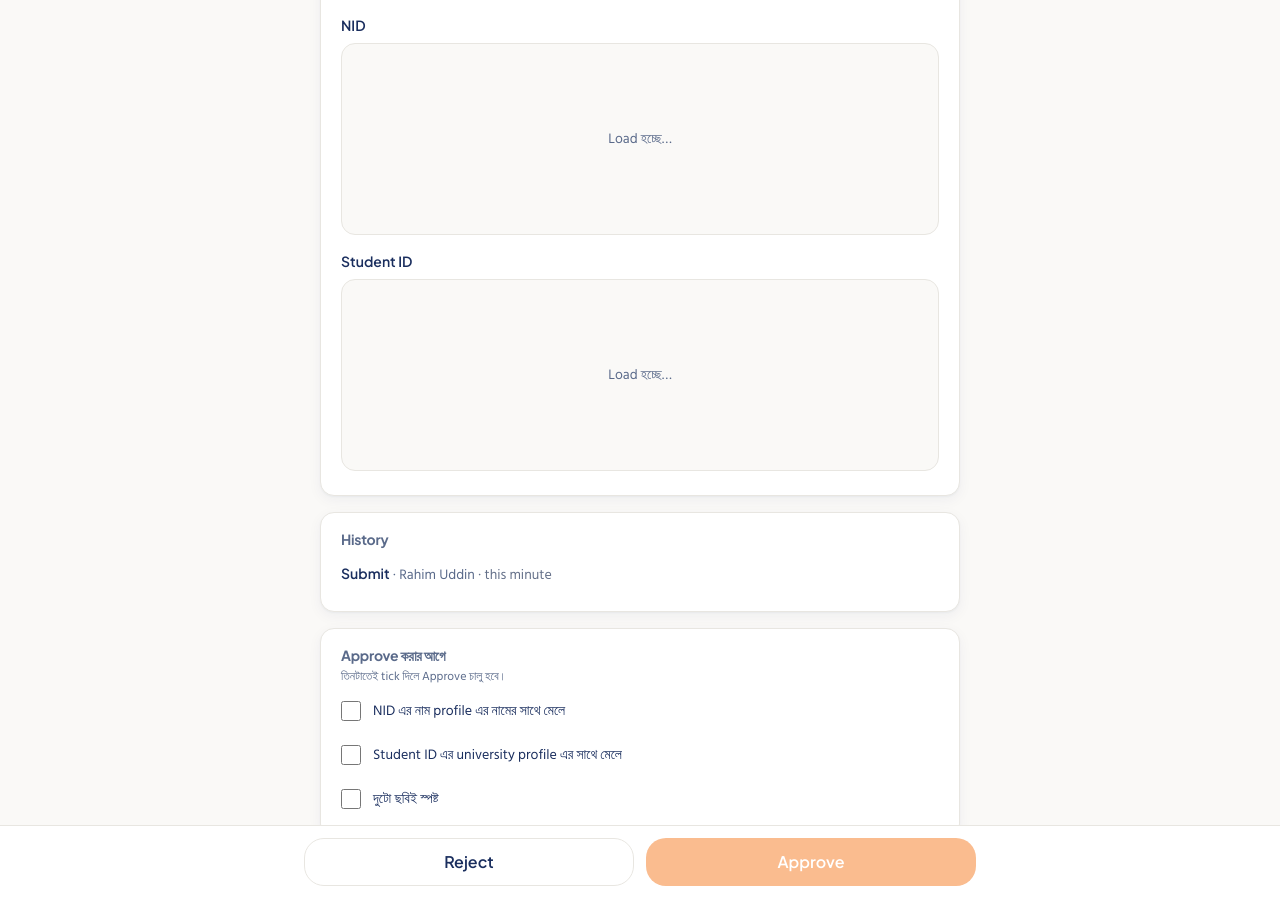
VerificationDetail › approves after confirmation and goes to the next waiting profile
(page scrolled)
Click the checkbox labelled "NID এর নাম profile এর নামের সাথে মেলে". click: (351, 711)
box: [341,701,361,721]
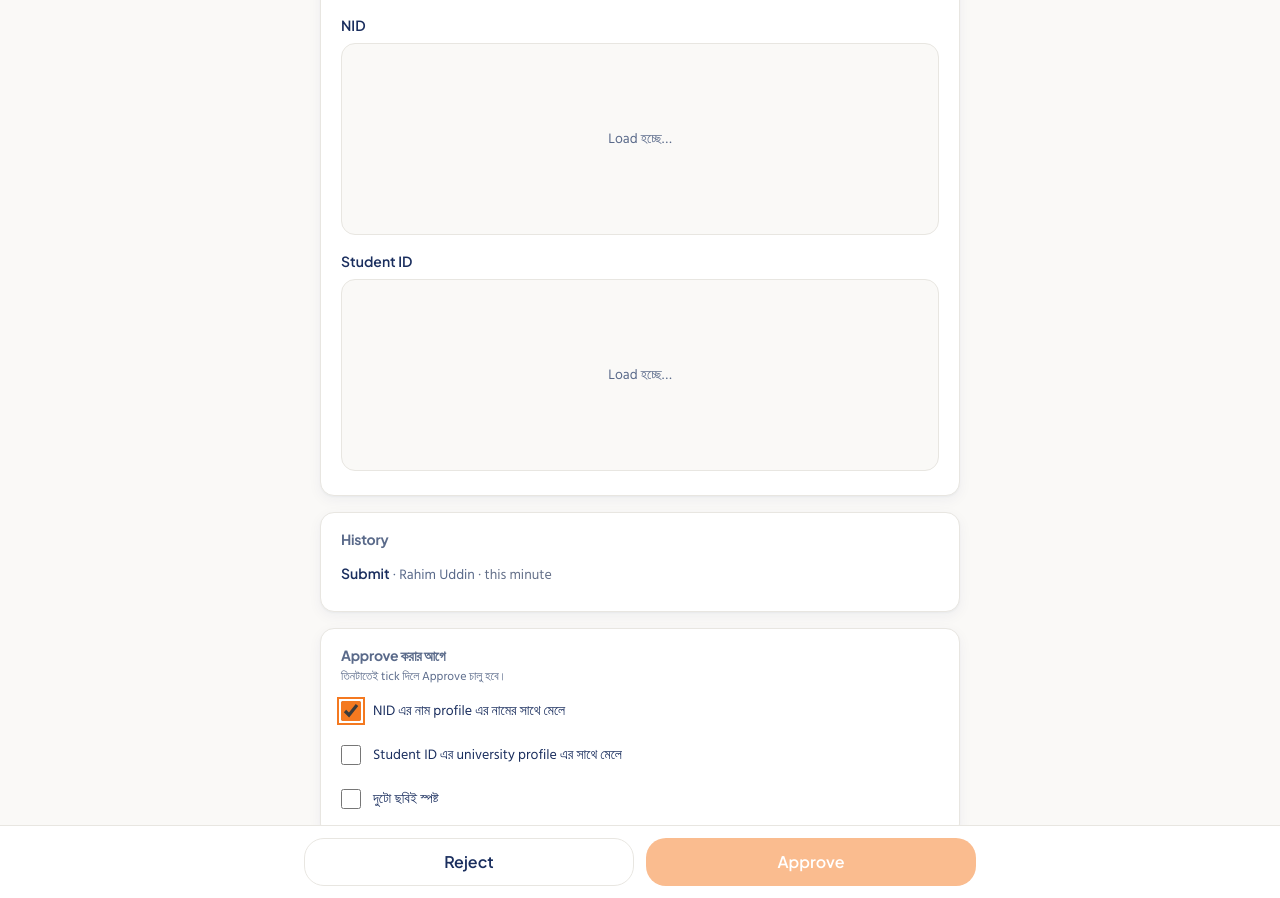
Click the checkbox labelled "Student ID এর university profile এর সাথে মেলে". click: (351, 755)
box: [341,745,361,765]
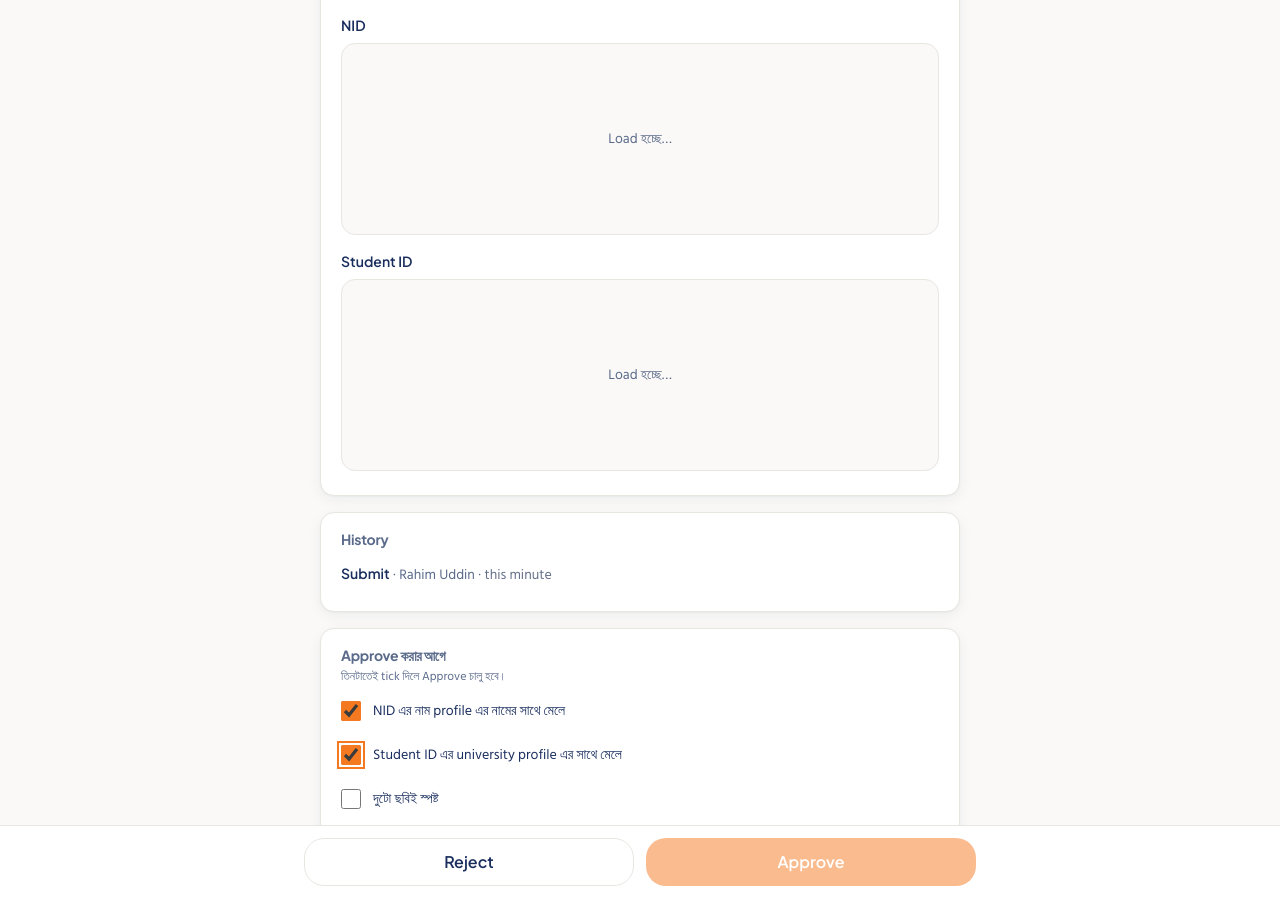
Click the checkbox labelled "দুটো ছবিই স্পষ্ট". click: (351, 799)
box: [341,789,361,809]
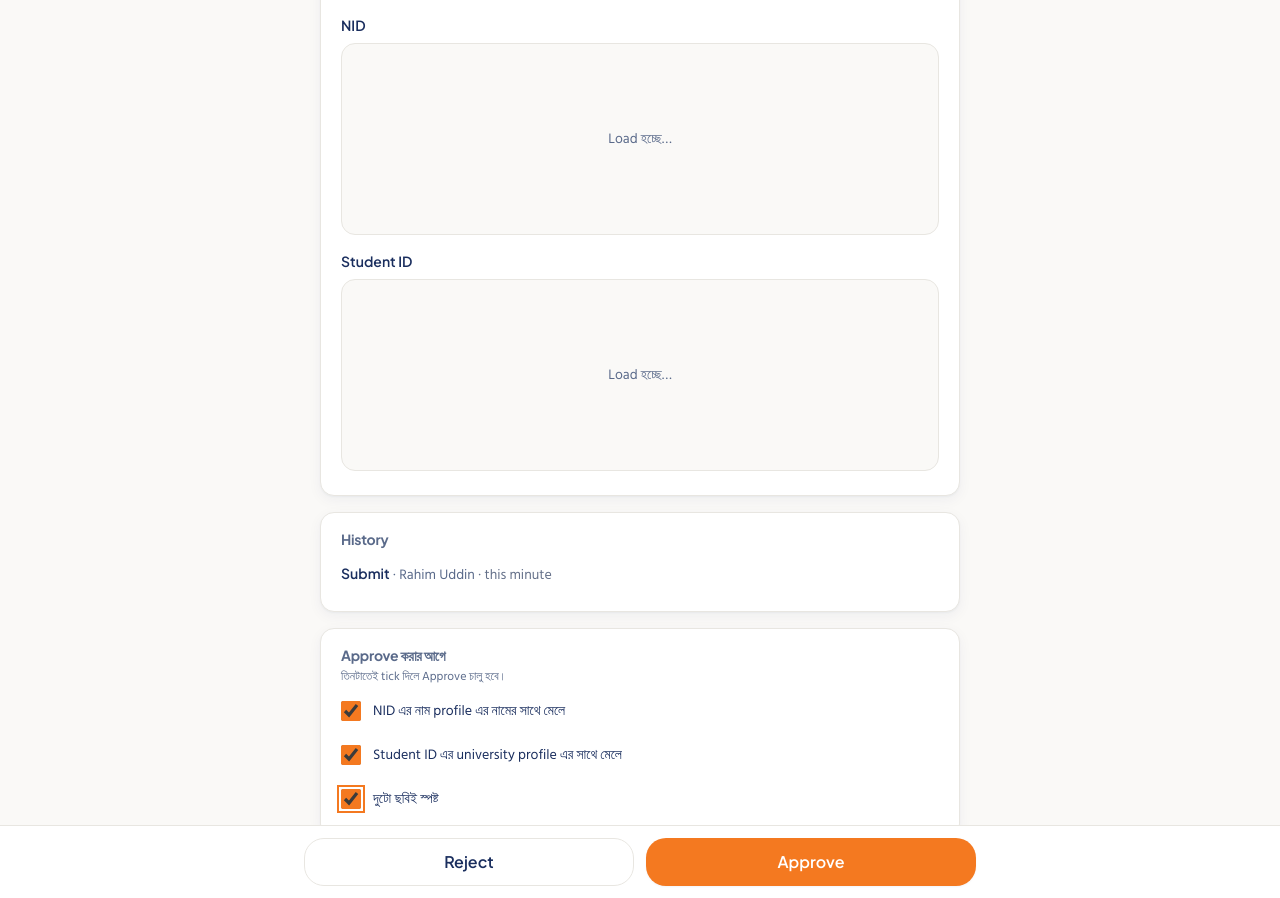
Click the button "Approve". click: (811, 862)
box: [646,838,976,886]
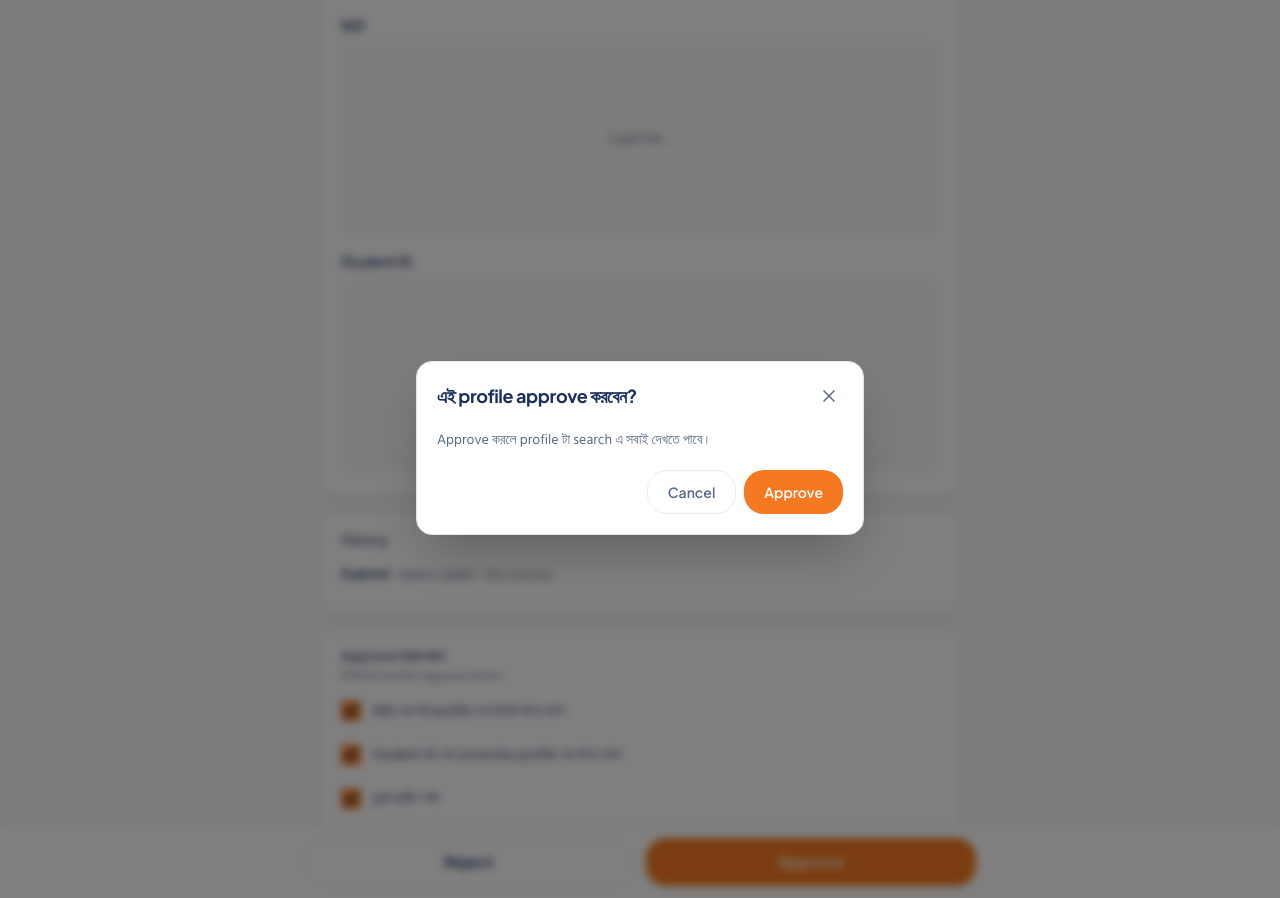
Now the text "Approve করলে profile টা search এ সবাই দেখতে পাবে।" is shown, box [437,428,712,451]
Click the button "Approve". click: (794, 492)
box: [744,470,843,514]
(page scrolled)
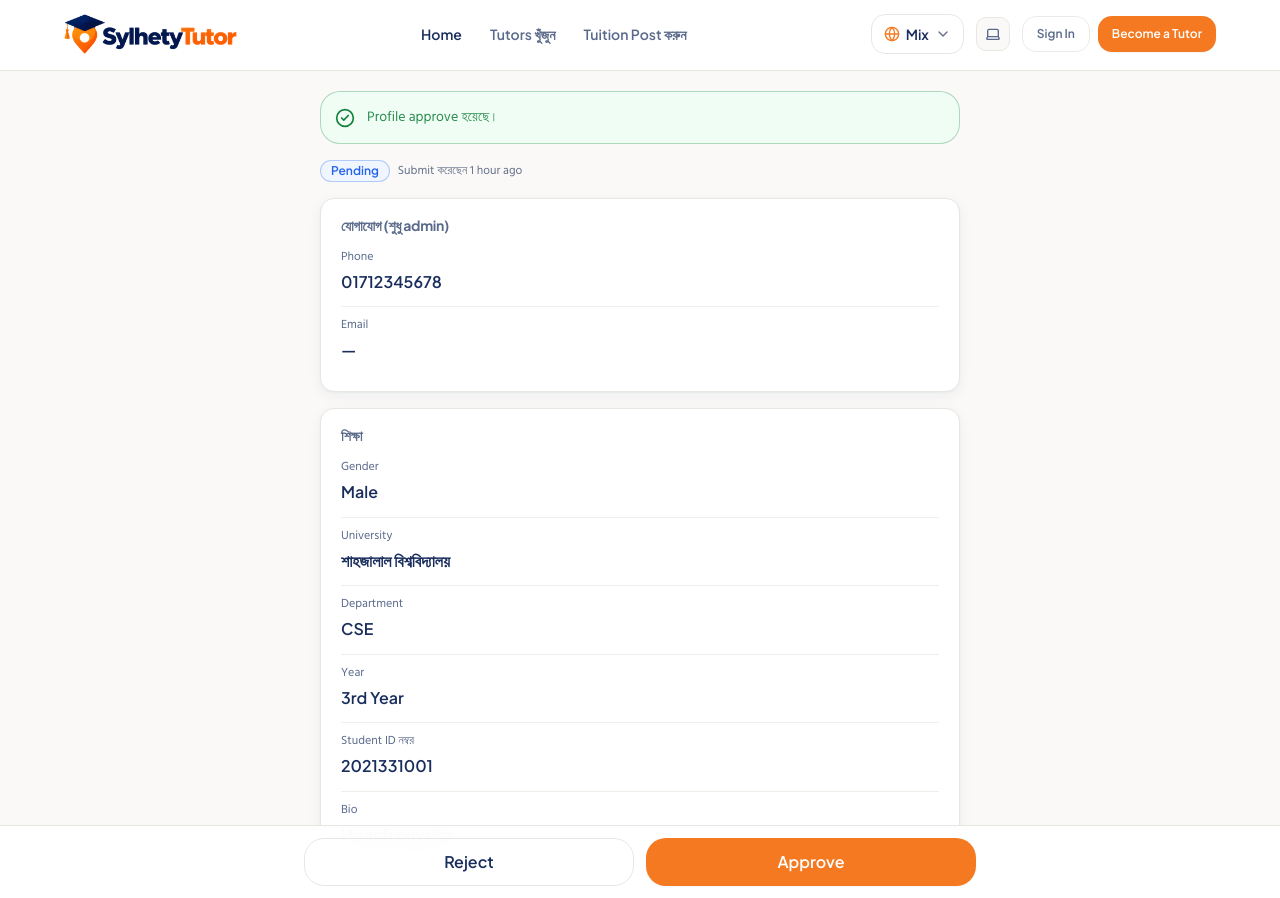
Now the text "Profile approve হয়েছে।" is shown, box [367,105,499,128]
